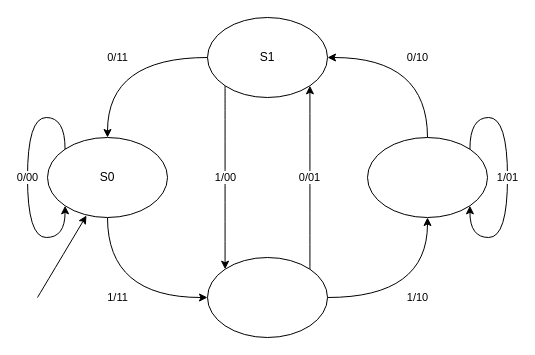
The diagram is 535 pixels wide and 355 high, and some of its shapes have lost their labels. Each missing label, with the box of its shape:
S2: (206, 256, 328, 338)
S3: (366, 136, 488, 218)
